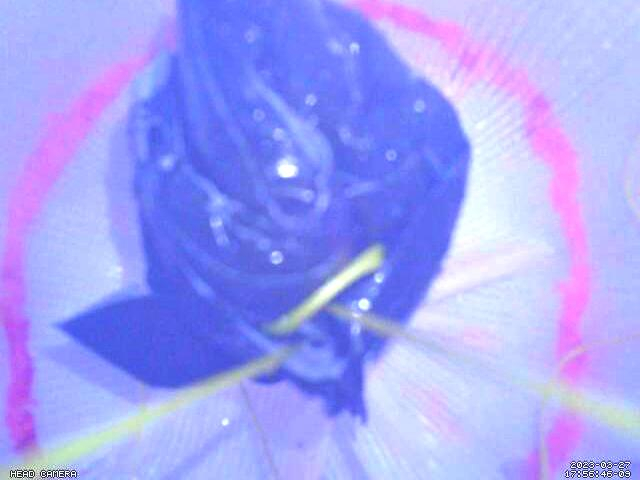head: (0, 0, 590, 480)
